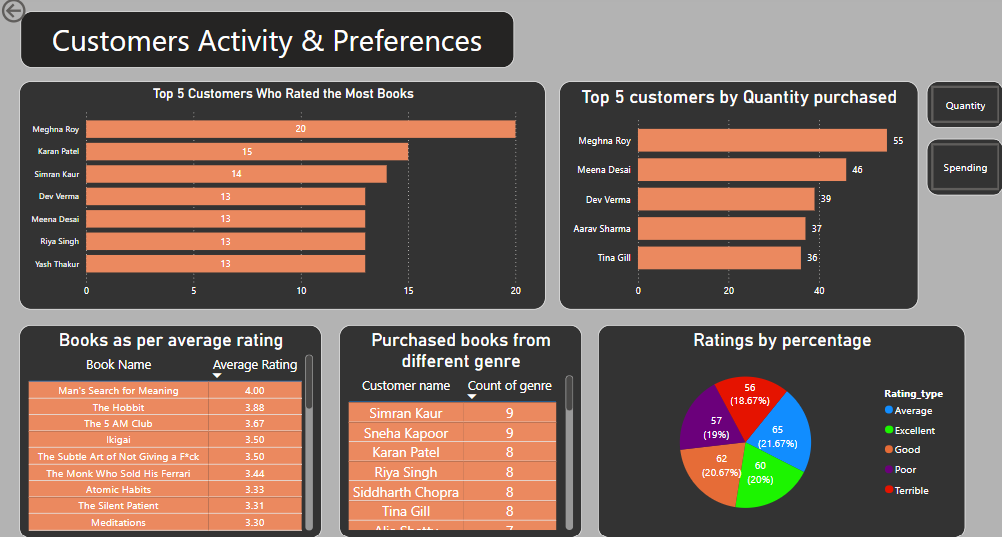

The dashboard page shown, as its layout file describes it:
{"tool":"powerbi","page":{"name":"Page 3","canvas":[1280,720],"ordinal":2},"visuals":[{"type":"textbox","box":[28.4,20.8,627.9,71.9],"z":0},{"type":"barChart","title":"Top 5 customers by spending","fields":{"Y":["Sum(Sales.total_amount)"],"Category":["Customers.FullName"]},"box":[712.4,109.7,458,291],"z":1000},{"type":"barChart","title":"Top 5 Customers Who Rated the Most Books","fields":{"Category":["Customers.FullName"],"Y":["CountNonNull(Reviews.review_id)"]},"box":[27.3,109.1,669.8,290.2],"z":2000},{"type":"actionButton","box":[0,0,100,40],"z":4004},{"type":"tableEx","title":"Books as per average rating","fields":{"Values":["Books.title","Reviews.AverageRating"]},"box":[27.3,419.2,384.5,272.9],"z":4005},{"type":"tableEx","title":"Purchased books from different genre","fields":{"Values":["Customers.FullName","CustomerGenres.GenresPerCustomer"]},"box":[434.1,419.8,308.5,271.9],"z":4006},{"type":"actionButton","box":[1180.8,109.1,99.2,59.5],"z":4008},{"type":"actionButton","box":[1180.8,183.6,99.2,71.9],"z":4009},{"type":"pieChart","title":"Ratings by percentage","fields":{"Y":["CountNonNull(Reviews.rating_id)"],"Category":["Ratings.rating_type"]},"box":[763.3,419.8,467.5,271.9],"z":4010}]}

Visuals, with their boxes on the page's 1280x720 design canvas (x1, y1, x2, y2). These are canvas units, not pixel positions in the 1002x537 screenshot, which may show the page scaled, cropped or inside an application window:
textbox: (28, 21, 656, 93)
"Top 5 customers by spending" barChart: (712, 110, 1170, 401)
"Top 5 Customers Who Rated the Most Books" barChart: (27, 109, 697, 399)
actionButton: (0, 0, 100, 40)
"Books as per average rating" tableEx: (27, 419, 412, 692)
"Purchased books from different genre" tableEx: (434, 420, 743, 692)
actionButton: (1181, 109, 1280, 169)
actionButton: (1181, 184, 1280, 256)
"Ratings by percentage" pieChart: (763, 420, 1231, 692)
